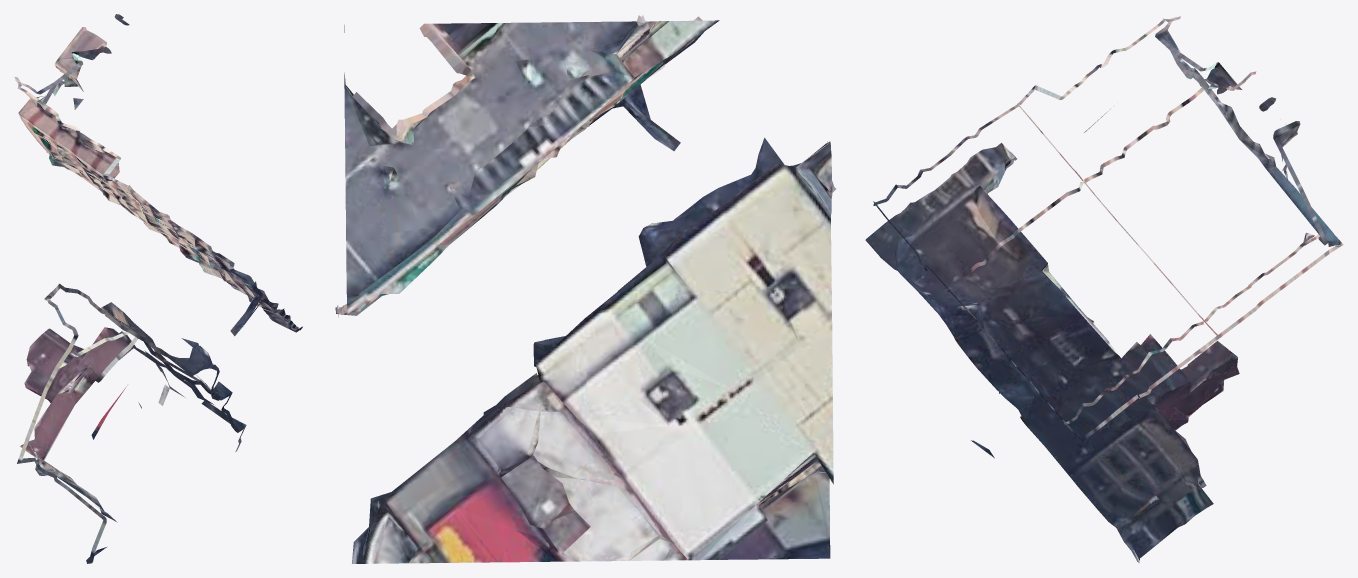
3 renders of one model, left to right at view 1: azimuth 30°, elevation 25°; view 2: azimuth 150°, elevation 25°; view 3: azimuth 270°, elevation 25°, orthographic. The views are drawn at different scales.
Size of the model in its own units: 38.71 by 50.42 by 49.2.
Materials: 1 (1 with a texture image).
